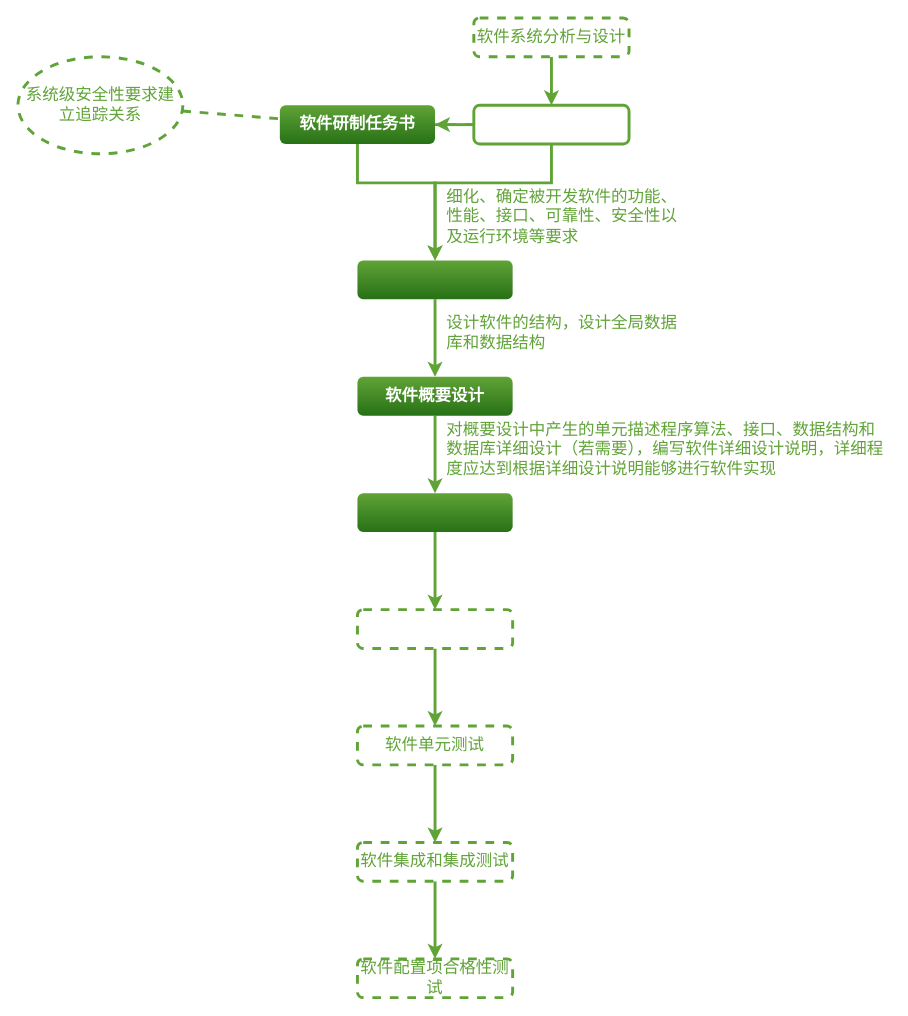
The diagram is 908 pixels wide and 1016 high, and some of its shapes have lost their labels. The centre of each missing label's shape, as x and y in pixels:
系统设计说明: point 551,124
软件编码: point 435,628
软件详细设计: point 434,512
需求规格说明: point 434,279
